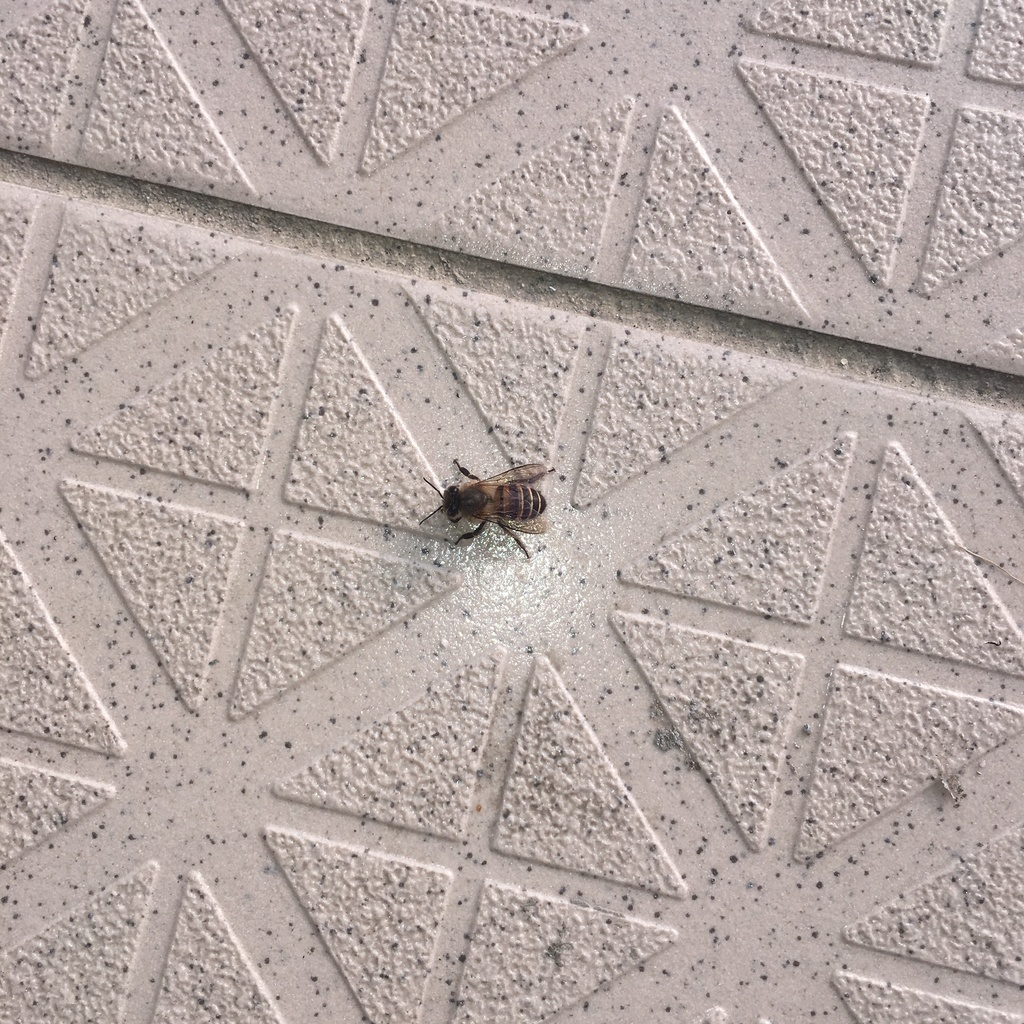not_bumblebee: (415, 457, 562, 565)
